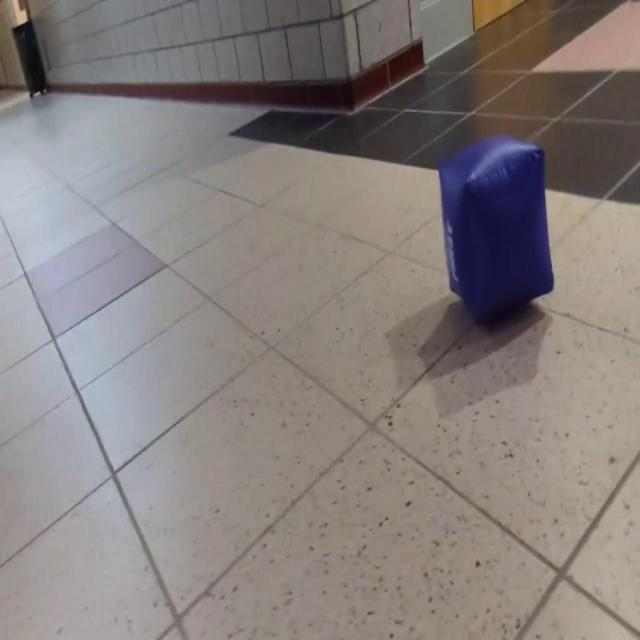frc_cube: (440, 131, 554, 326)
